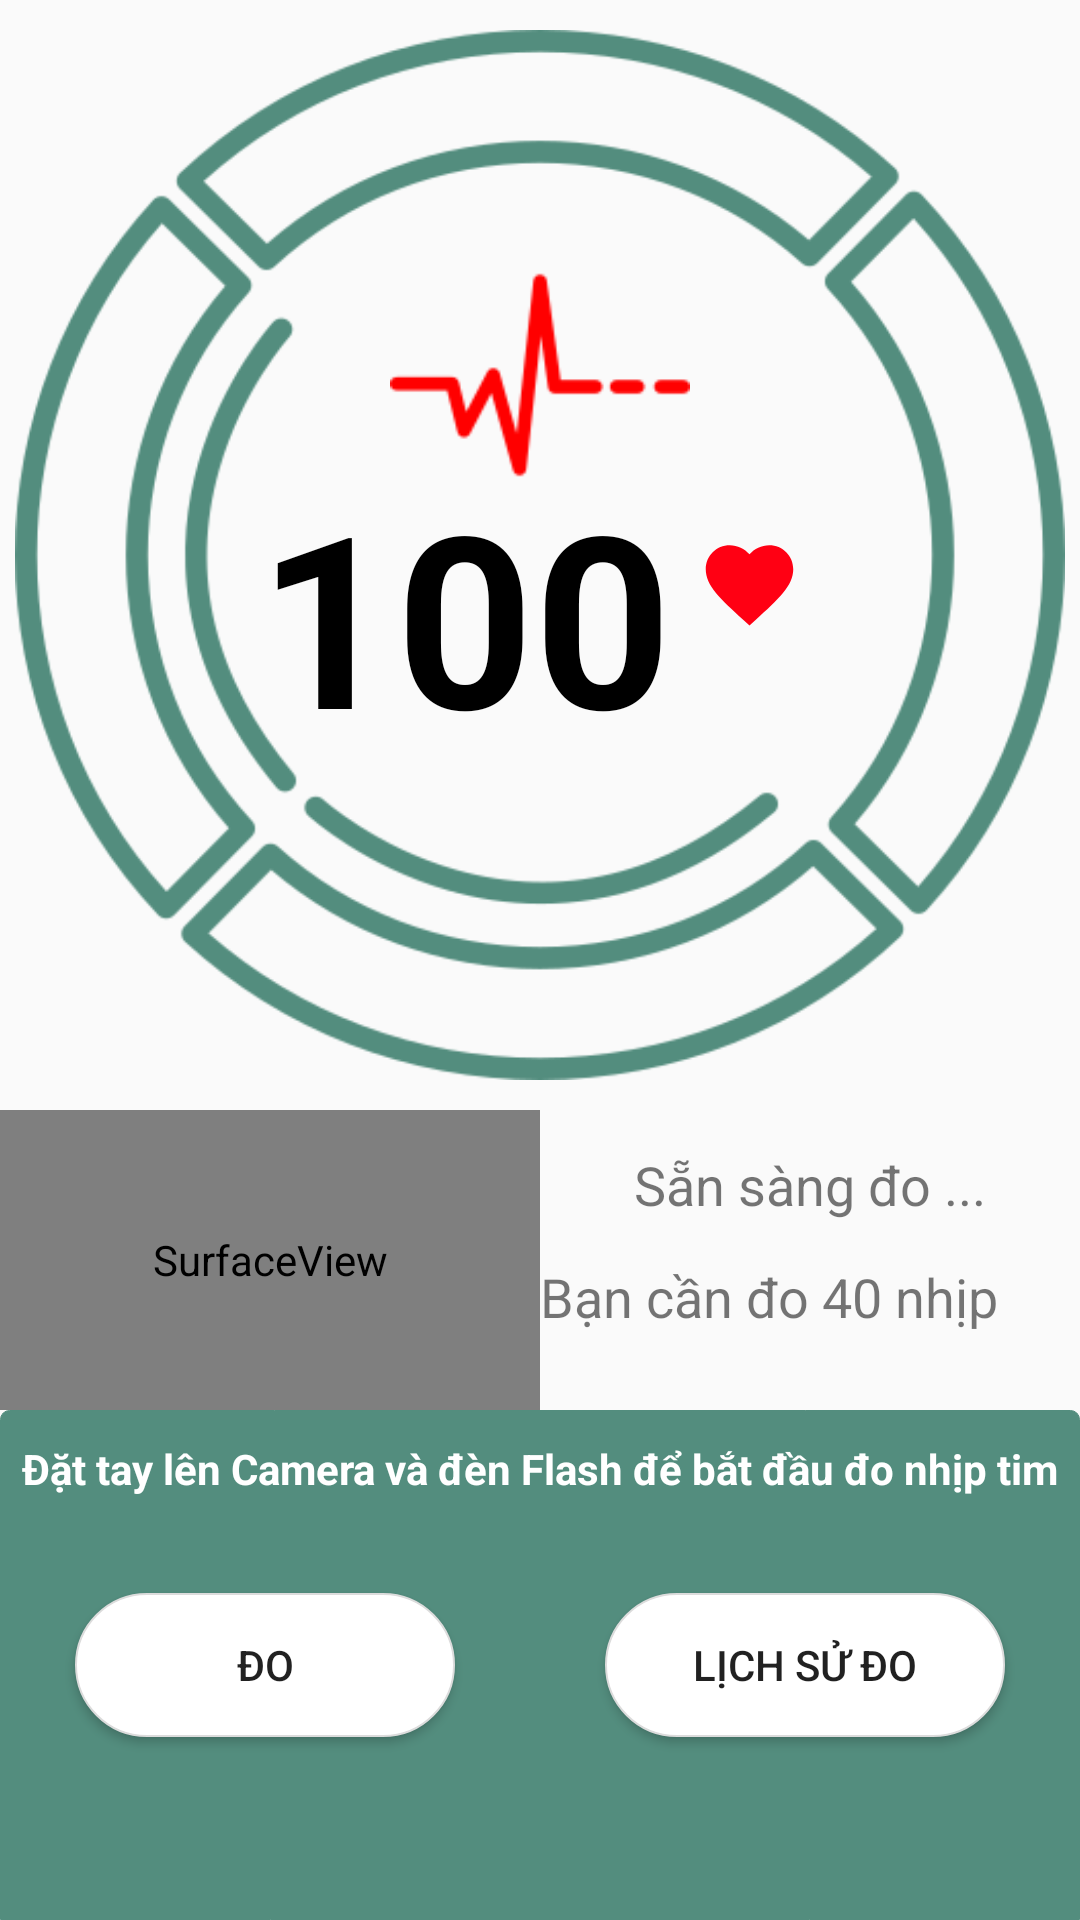

Screen size 1080x1920. Icon name, then its box in pixels as rect(x1, y1, x2, y2):
favorite: rect(705, 545, 794, 626)
heartbeat: rect(390, 273, 690, 477)
